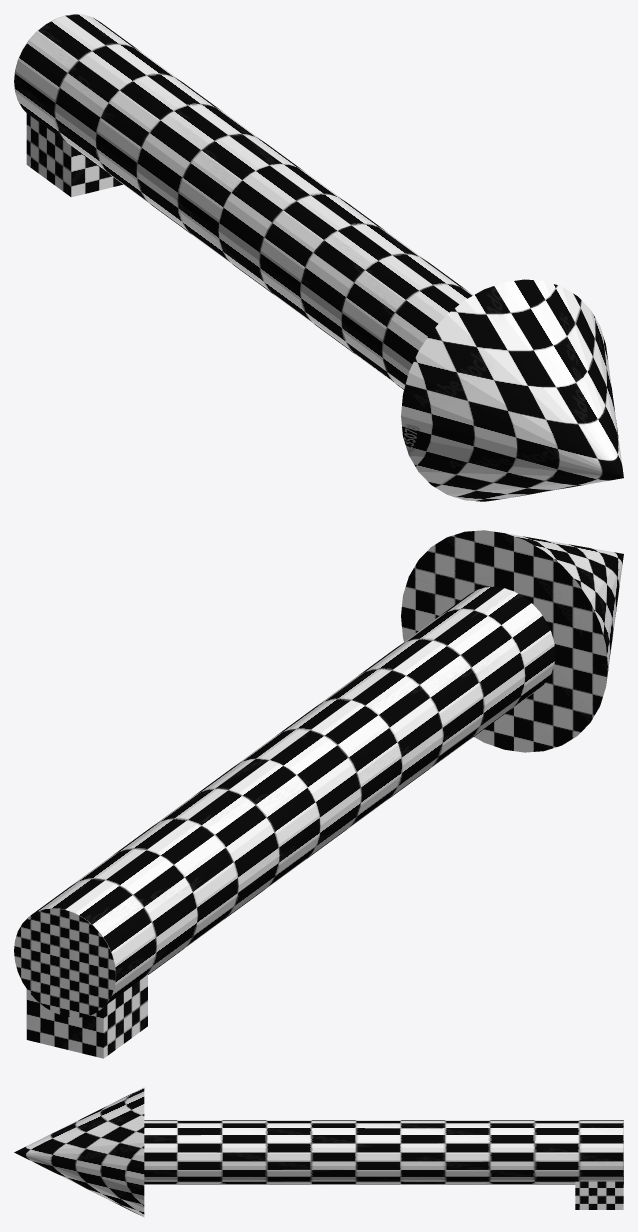
File: Arrow.glb
The picture shows the model from 3 angles, top to bottom: view 1: azimuth 30°, elevation 25°; view 2: azimuth 150°, elevation 25°; view 3: azimuth 270°, elevation 25°; orthographic projection. The views are drawn at different scales.
Visible parts, largest first — view 1: Cone; view 2: Cone; view 3: Cone.
Boxes of the visible parts, x1,y1,x2,y2 form: Cone: (14,14,623,501); Cone: (14,530,623,1058); Cone: (14,1087,623,1217).
Size of the model in its own units: 0.4264 by 0.4264 by 1.99.
1 material, 1 textured.
